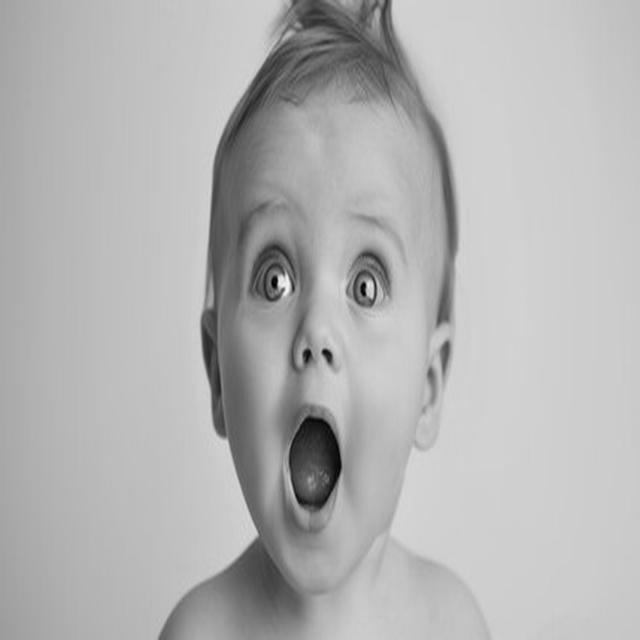Surprised: (218, 103, 444, 593)
